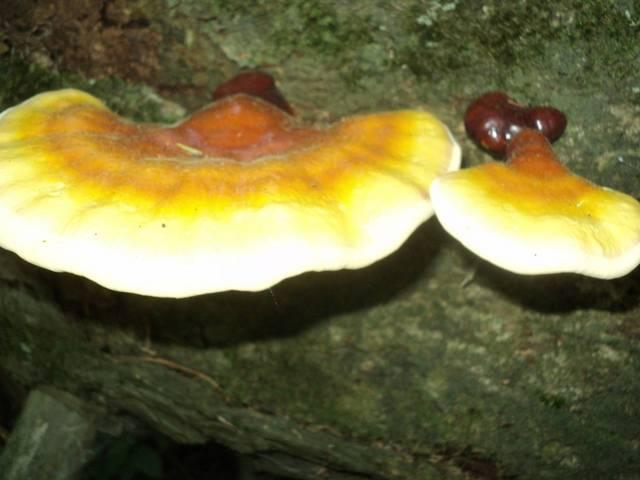poisonous_mushroom: (0, 80, 462, 300), (441, 85, 640, 286)
